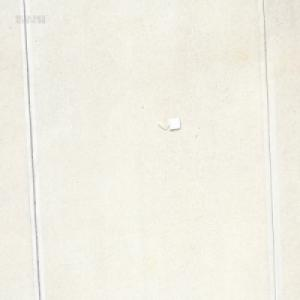LuggageTag: (156, 116, 180, 132)
